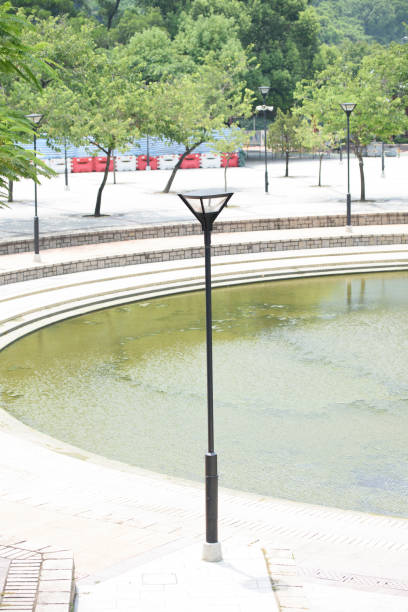light_pole: (194, 233, 224, 558)
